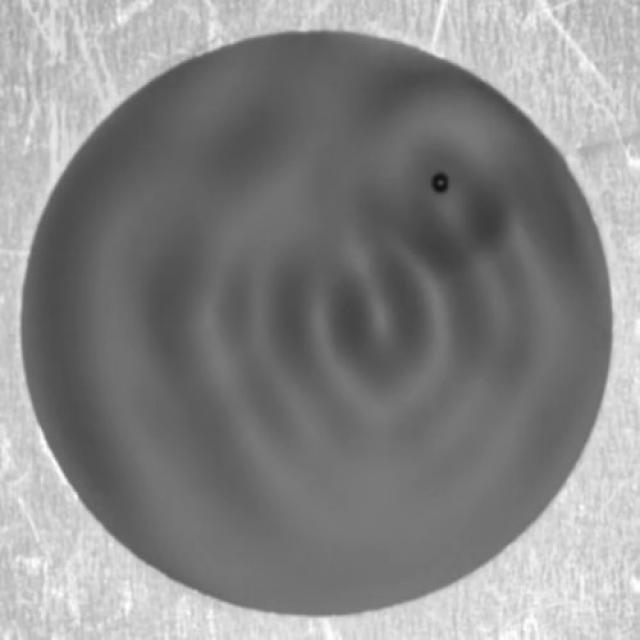droplet: (430, 171, 451, 195)
